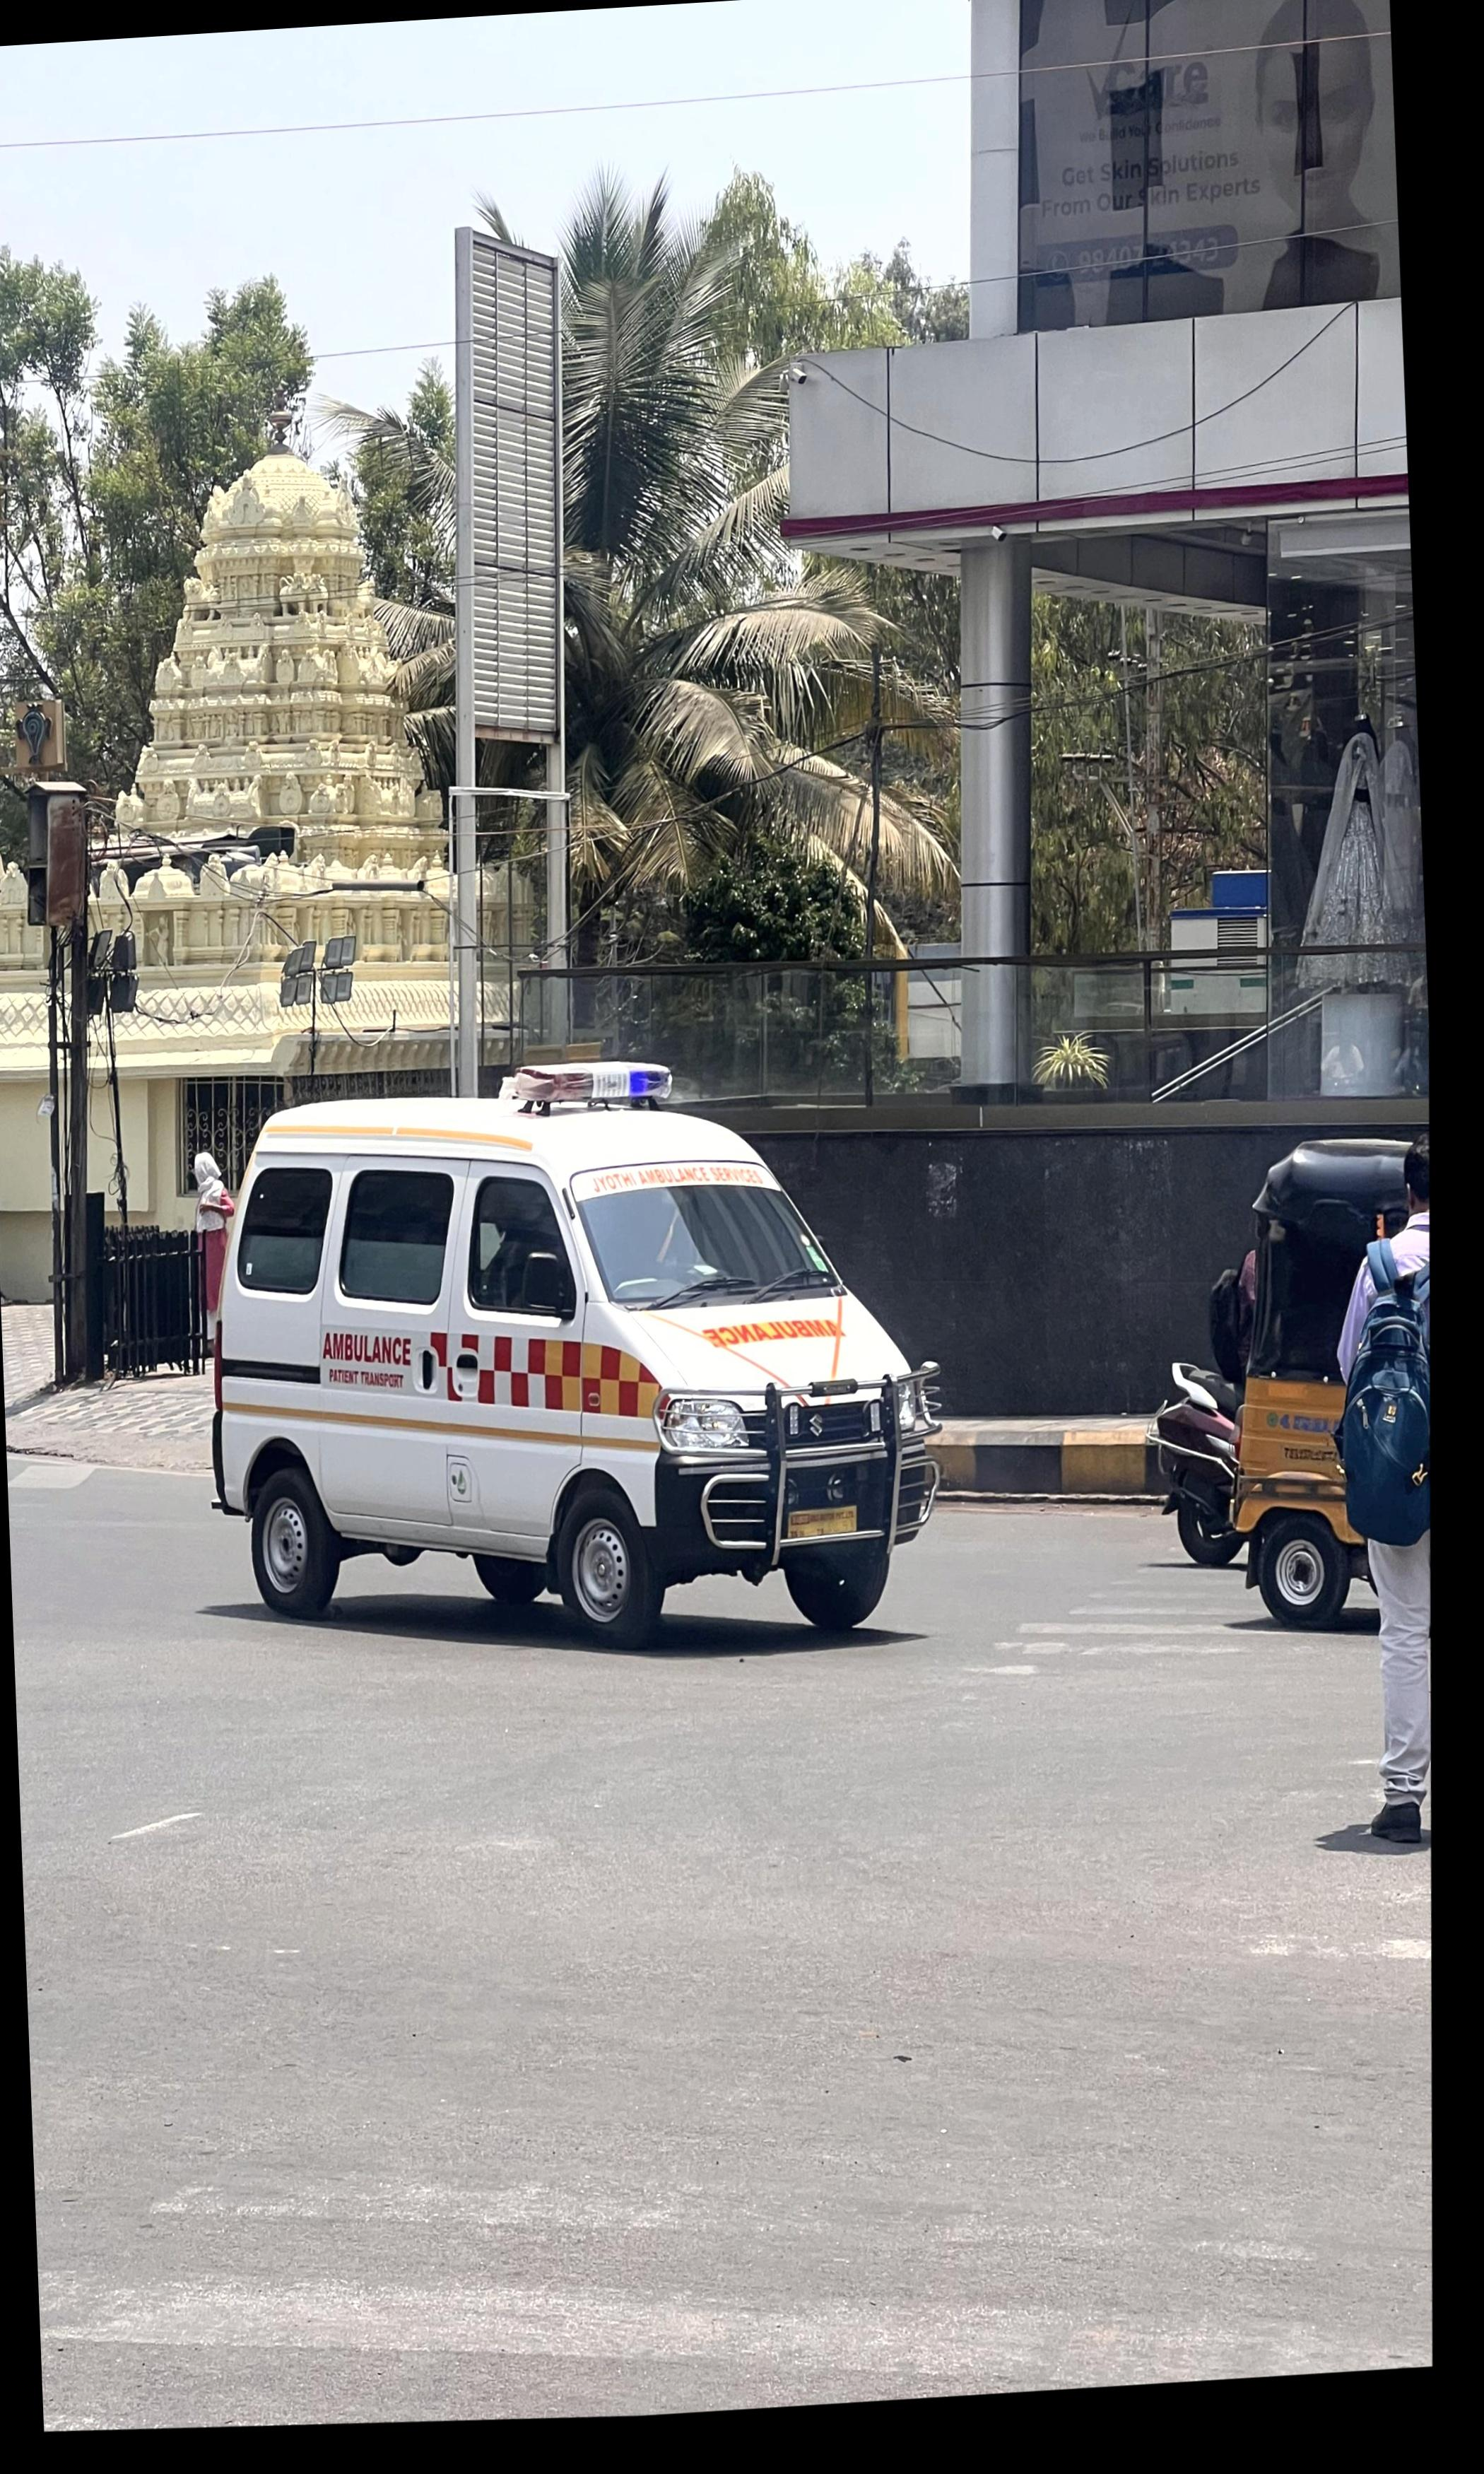ambulance: (212, 1069, 935, 1643)
